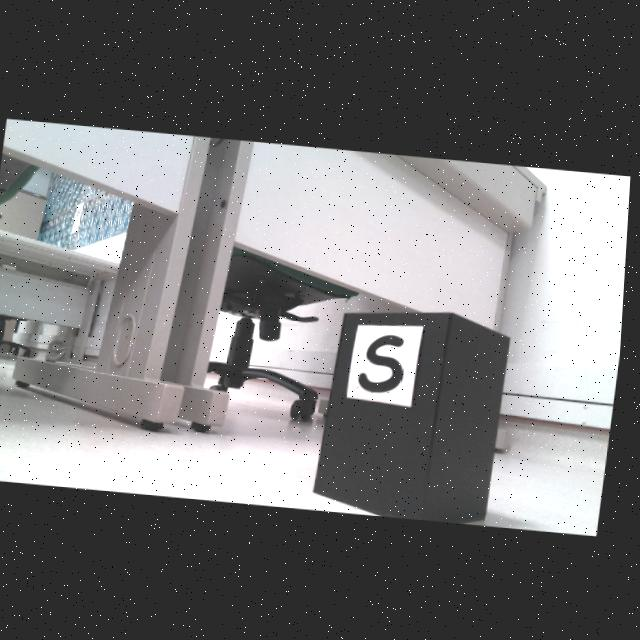S: (363, 333, 408, 390)
